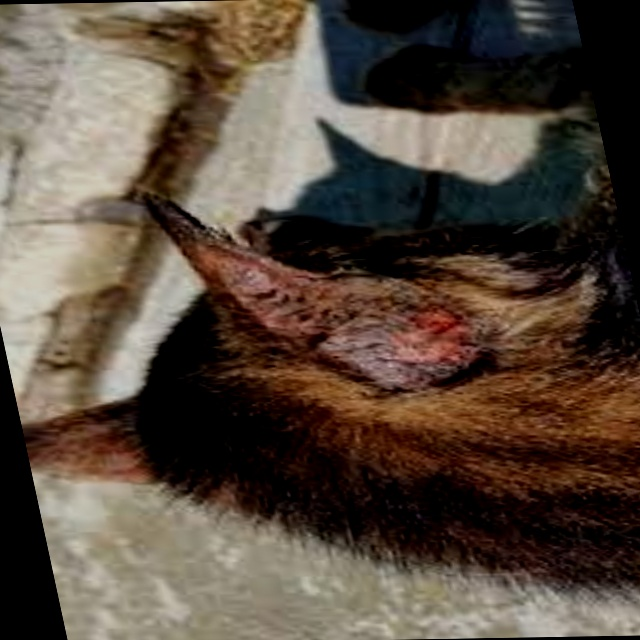ringworm: (275, 288, 512, 388)
